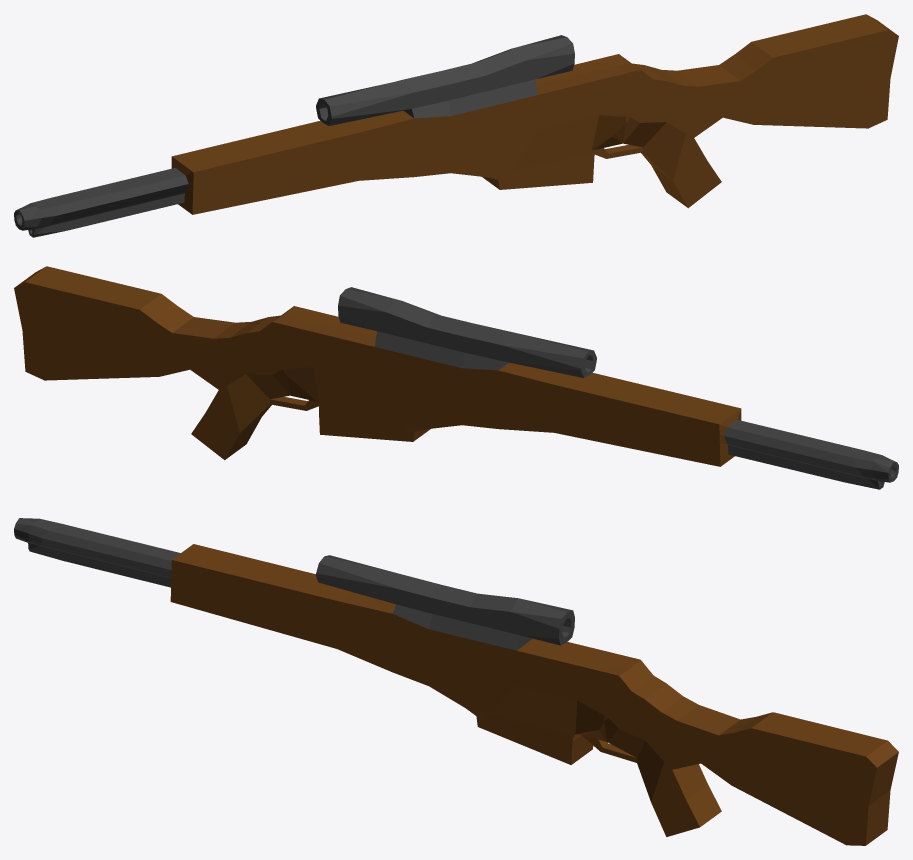
File: SNIPER_SHOTGUN.glb
The picture shows the model from 3 angles, top to bottom: view 1: azimuth 30°, elevation 25°; view 2: azimuth 150°, elevation 25°; view 3: azimuth 330°, elevation 25°; orthographic projection.
Parts seen in each view (by area): view 1: Cube; view 2: Cube; view 3: Cube.
Part boxes in pixels (bbox=[...]): Cube: bbox=[14, 14, 898, 237]; Cube: bbox=[14, 266, 898, 489]; Cube: bbox=[14, 518, 898, 845].
Size of the model in its own units: 3.98 by 0.8414 by 0.1753.
